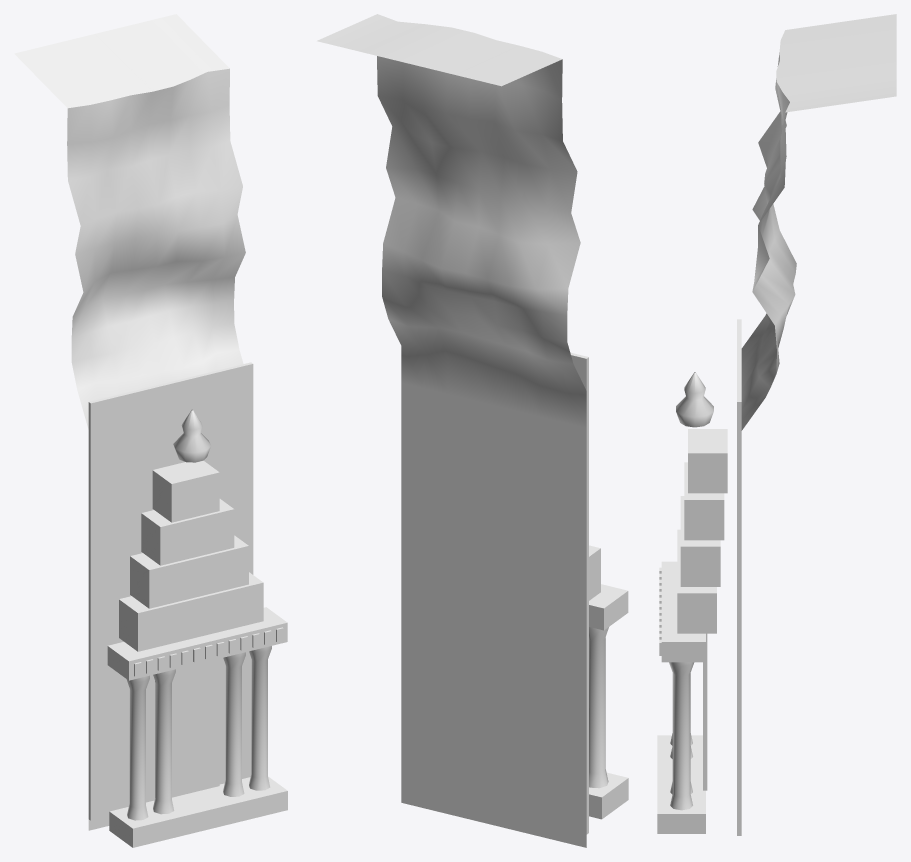
The model's file is facade.glb.
3 views of the same model, side by side, from view 1: azimuth 30°, elevation 25°; view 2: azimuth 150°, elevation 25°; view 3: azimuth 270°, elevation 25° (orthographic). The views are drawn at different scales.
Parts seen in each view (by area): view 1: Facade; view 2: Facade; view 3: Facade.
Boxes of the visible parts, x1,y1,x2,y2 form: Facade: [14, 14, 287, 847]; Facade: [317, 14, 628, 847]; Facade: [657, 14, 896, 835].
Bounding box in the file's own units: 4.4 × 18.7 × 5.4.
Materials: 1 (1 with a texture image).
